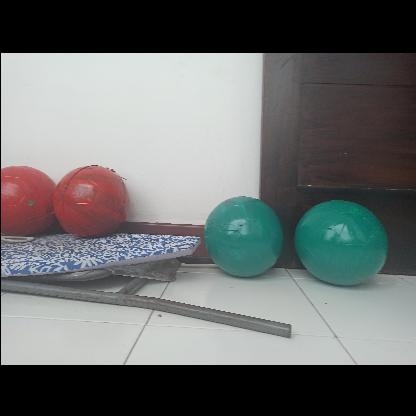green_ball: (293, 194, 387, 288), (204, 194, 284, 274)
